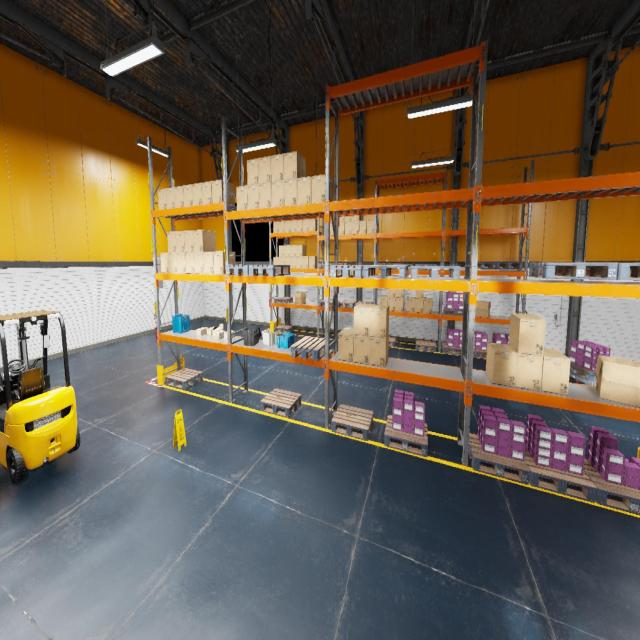box: (595, 355, 640, 407), (509, 313, 546, 355), (509, 345, 543, 390), (486, 342, 517, 387), (541, 348, 570, 395), (369, 332, 389, 367), (369, 304, 389, 338), (284, 150, 306, 180), (311, 174, 333, 203), (354, 303, 373, 336), (211, 180, 235, 206), (338, 328, 354, 362), (213, 251, 235, 274), (193, 230, 216, 251), (354, 335, 369, 364), (298, 176, 312, 204), (270, 154, 284, 182), (284, 178, 297, 206), (271, 180, 284, 207), (258, 156, 271, 183), (247, 158, 259, 185), (259, 183, 271, 208), (247, 184, 259, 209), (236, 186, 248, 210), (475, 300, 490, 318), (201, 181, 212, 204), (204, 251, 214, 274), (192, 183, 202, 205), (184, 230, 194, 252), (194, 252, 204, 273), (175, 231, 185, 252), (183, 184, 192, 207), (174, 185, 183, 208), (176, 253, 186, 273), (166, 186, 175, 208), (185, 252, 194, 273), (168, 252, 177, 272), (160, 252, 169, 272), (167, 232, 176, 252), (158, 189, 166, 209), (294, 292, 306, 304), (423, 297, 432, 313), (406, 296, 415, 312), (212, 324, 223, 336), (395, 297, 404, 311), (214, 329, 226, 339), (415, 298, 423, 312), (296, 245, 306, 256), (359, 220, 367, 233), (309, 256, 317, 268), (309, 218, 317, 230), (344, 222, 352, 234), (388, 297, 395, 310), (367, 220, 374, 233), (352, 221, 359, 234), (197, 327, 207, 336), (223, 330, 234, 338), (324, 223, 331, 235), (296, 219, 302, 232), (338, 222, 344, 235), (206, 326, 214, 335), (415, 290, 424, 298), (396, 289, 404, 298), (302, 256, 308, 268), (296, 256, 302, 268), (290, 256, 296, 268), (302, 219, 308, 231), (290, 220, 296, 232), (273, 221, 279, 233), (380, 295, 387, 305), (290, 245, 296, 256), (284, 245, 290, 256), (388, 288, 395, 297), (285, 256, 290, 268), (279, 245, 284, 257), (285, 220, 290, 232), (279, 221, 284, 232), (352, 215, 361, 221), (273, 257, 279, 264), (344, 216, 352, 221), (279, 257, 284, 264), (339, 216, 344, 222), (331, 222, 333, 235), (331, 218, 333, 222)
forklift: (0, 310, 80, 483)
pallets: (524, 446, 597, 503), (468, 433, 530, 485), (584, 459, 640, 515), (384, 415, 428, 457), (528, 262, 618, 280), (332, 404, 374, 441), (261, 388, 301, 418), (290, 336, 330, 361), (165, 368, 203, 389), (411, 266, 460, 280), (603, 262, 640, 280), (363, 266, 408, 278), (570, 362, 596, 381), (330, 265, 363, 278), (248, 265, 290, 275), (225, 265, 266, 275), (415, 340, 437, 352), (441, 342, 461, 355), (466, 345, 486, 358), (443, 307, 463, 316), (496, 263, 523, 269), (470, 262, 496, 268), (320, 299, 339, 307), (274, 325, 294, 332), (338, 301, 357, 308), (415, 264, 437, 270), (273, 297, 293, 303), (393, 264, 414, 269), (376, 264, 393, 269), (355, 301, 373, 305), (389, 336, 396, 346), (319, 264, 332, 268), (338, 331, 340, 340)
